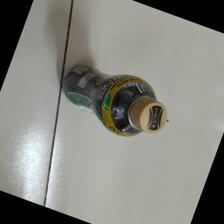Olong: (60, 63, 173, 139)
